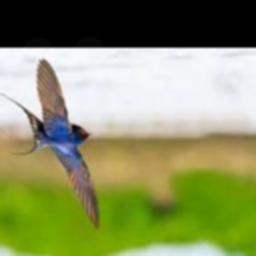Swallow: (0, 59, 99, 233)
